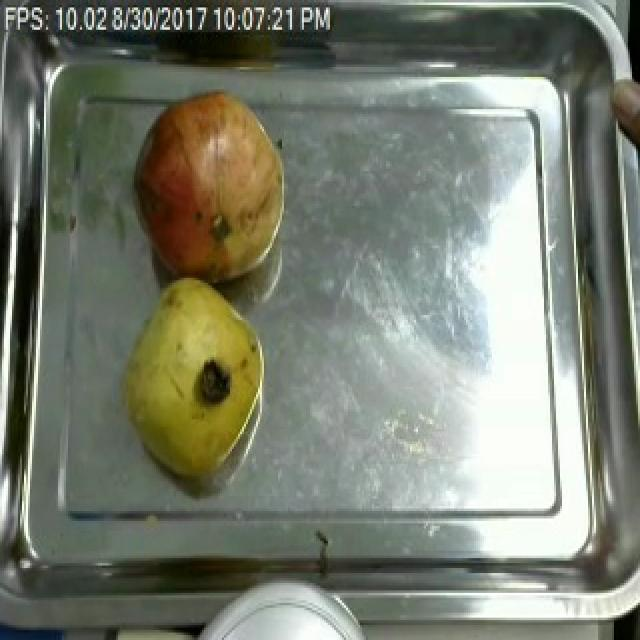fruit: (130, 80, 294, 296), (110, 268, 272, 486), (608, 64, 640, 168)
